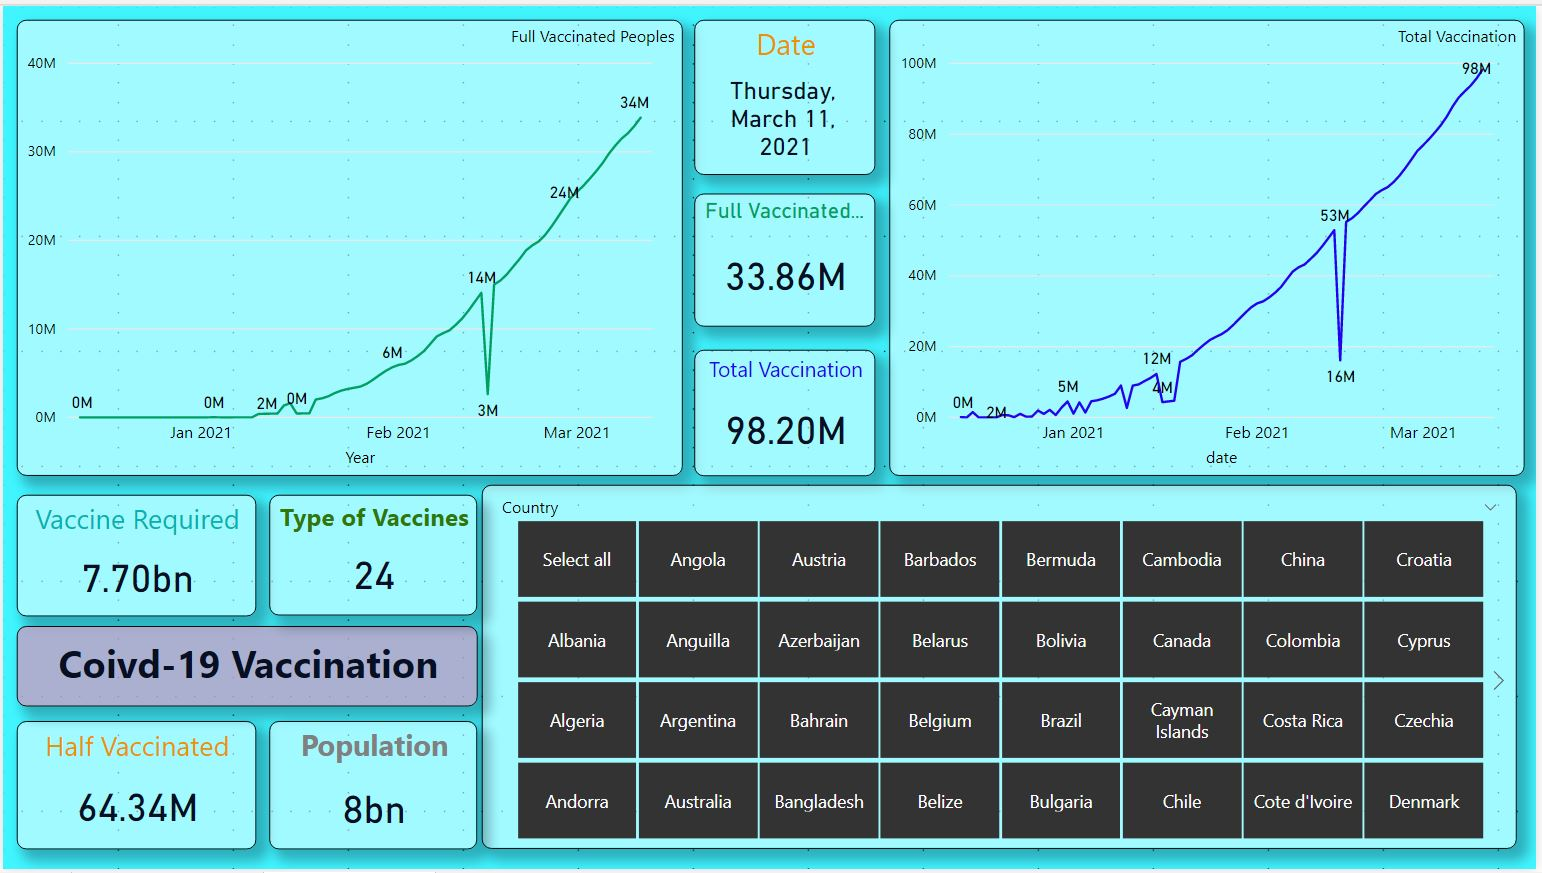

The page's visual inventory and layout, read from the dashboard file:
{"tool":"powerbi","page":{"name":"Coivd Vaccination","canvas":[1280,720],"ordinal":2},"visuals":[{"type":"lineChart","title":"Full Vaccinated Peoples","fields":{"Y":["Max(covid_vaccine_data.people_fully_vaccinated)"],"Category":["covid_vaccine_data.date.Variation.Date Hierarchy.Year","covid_vaccine_data.date.Variation.Date Hierarchy.Quarter","covid_vaccine_data.date.Variation.Date Hierarchy.Month","covid_vaccine_data.date.Variation.Date Hierarchy.Day"]},"box":[11.4,11.4,556,380.7],"z":0},{"type":"lineChart","title":"Total Vaccination","fields":{"Category":["covid_vaccine_data.date.Variation.Date Hierarchy.Year"],"Y":["Max(covid_vaccine_data.total_vaccinations)"]},"box":[740,11.4,530.4,380.7],"z":1000},{"type":"card","title":"Date","fields":{"Values":["Max(covid_vaccine_data.date)"]},"box":[577.4,11.4,151.1,129.7],"z":2000},{"type":"card","title":"Full Vaccinated People","fields":{"Values":["Max(covid_vaccine_data.people_fully_vaccinated)"]},"box":[577.4,156.8,151.1,111.2],"z":3000},{"type":"card","title":"Total Vaccination","fields":{"Values":["Max(covid_vaccine_data.total_vaccinations)"]},"box":[577.4,286.6,151.1,105.5],"z":4000},{"type":"card","title":"Vaccine Required","fields":{"Values":["population_data.Vaccine_Required"]},"box":[11.4,407.8,199.6,101.2],"z":5000},{"type":"slicer","fields":{"Values":["covid_vaccine_data.country"]},"box":[400,400,864,304],"z":6000},{"type":"card","title":"Half Vaccinated","fields":{"Values":["covid_vaccine_data.half_vaccinated"]},"box":[11.4,597.4,199.6,106.9],"z":7000},{"type":"textbox","box":[11.4,517.5,385,67],"z":8000},{"type":"card","title":"Type of Vaccines","fields":{"Values":["Count(covid_vaccine_data.vaccines)"]},"box":[222.1,408.3,173.8,100.7],"z":9000},{"type":"card","title":"Population","fields":{"Values":["Sum(population_data.Population)"]},"box":[222.1,597.2,173.8,107.6],"z":10000}]}

Visuals, with their boxes in screenshot pixels (x1, y1, x2, y2), scaled from the page's 1280x720 canvas onto the 1542x873 screenshot:
"Full Vaccinated Peoples" lineChart: <region>14, 14, 684, 475</region>
"Total Vaccination" lineChart: <region>891, 14, 1530, 475</region>
"Date" card: <region>696, 14, 878, 171</region>
"Full Vaccinated People" card: <region>696, 190, 878, 325</region>
"Total Vaccination" card: <region>696, 348, 878, 475</region>
"Vaccine Required" card: <region>14, 494, 254, 617</region>
slicer - covid_vaccine_data.country: <region>482, 485, 1523, 854</region>
"Half Vaccinated" card: <region>14, 724, 254, 854</region>
textbox: <region>14, 627, 478, 709</region>
"Type of Vaccines" card: <region>268, 495, 477, 617</region>
"Population" card: <region>268, 724, 477, 855</region>
